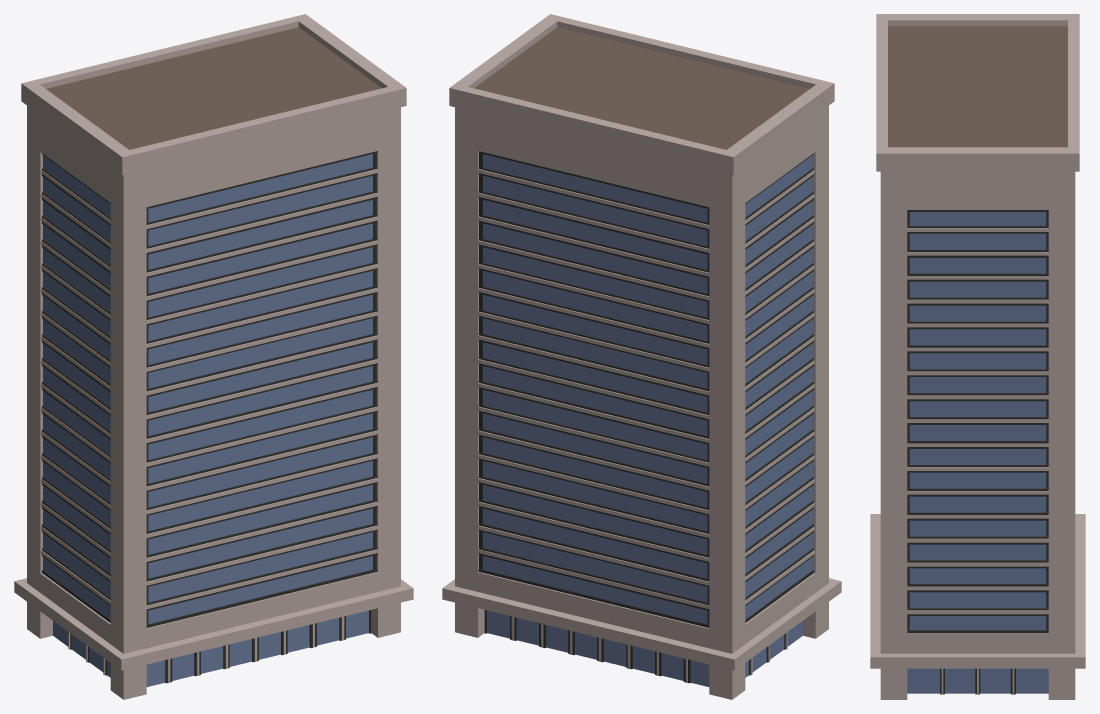
File: LargeBuilding_17.fbx
3 renders of one model, left to right at view 1: azimuth 30°, elevation 25°; view 2: azimuth 150°, elevation 25°; view 3: azimuth 270°, elevation 25°, orthographic.
Parts seen in each view (by area): view 1: LargeBuilding_17; view 2: LargeBuilding_17; view 3: LargeBuilding_17.
Part boxes in pixels (bbox=[...]): LargeBuilding_17: bbox=[14, 14, 413, 699]; LargeBuilding_17: bbox=[442, 14, 841, 699]; LargeBuilding_17: bbox=[870, 14, 1085, 699].
Size of the model in its own units: 37.7 by 67.23 by 23.93.
